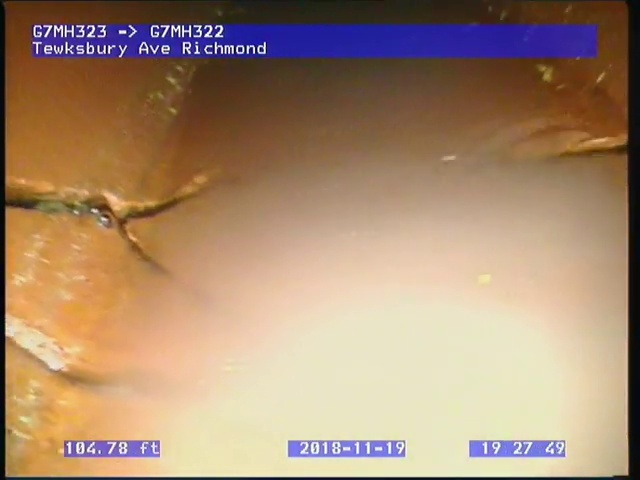crack: (7, 164, 217, 278), (552, 130, 630, 166)
